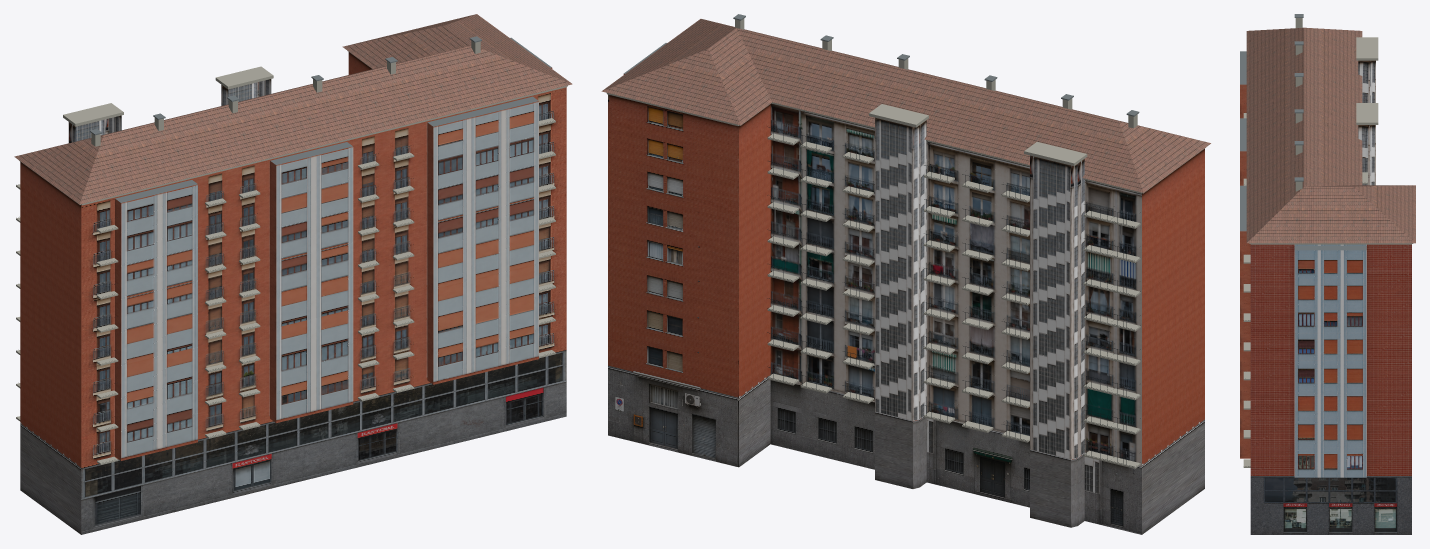
Rendered from Molassi_Fotografico.glb.
3 views of the same model, side by side, from view 1: azimuth 30°, elevation 25°; view 2: azimuth 150°, elevation 25°; view 3: azimuth 270°, elevation 25° (orthographic). The views are drawn at different scales.
Parts seen in each view (by area): view 1: Fronte | Fronte foto, Copertura | Copertura foto, Fronte | Basamento fronte, Aggetto fronte 3 | Fronte foto, Aggetto fronte 2 | Fronte foto, Aggetto fronte 1 | Fronte foto, Sinistra | Retro foto, Balconi solette | Cornici, Fianchi aggetti | Fronte foto, Sinistra | Basamento retro, Chiusure aggetti | Metallo, Coronamento vani scala | Cornici (+4 smaller); view 2: Retro arretrato | Retro foto, Copertura | Copertura foto, Retro testata | Retro foto, Retro arretrato | Basamento retro, Sinistra | Retro foto, Vano scala 2 | Retro foto, Vano scala 1 | Retro foto, Balconi solette | Cornici, Retro testata | Basamento retro, Rientranza | Retro foto, Balconi ringhiere | Ringhiere MASK, Sinistra | Basamento retro (+5 smaller); view 3: Copertura | Copertura foto, Destra | Destra foto, Aggetto destra | Destra foto, Destra | Basamento destra, Fianchi aggetti | Fronte foto, Chiusure aggetti | Metallo, Coronamento vani scala | Cornici, Vano scala 1 | Retro foto, Balconi solette | Cornici, Vano scala 2 | Retro foto, Comignoli | Cornici, Cornicioni | Cornici (+1 smaller).
Boxes of the visible parts, <box> form: Fronte | Fronte foto: <box>81,87,566,468</box>; Copertura | Copertura foto: <box>14,14,572,204</box>; Fronte | Basamento fronte: <box>81,350,566,534</box>; Aggetto fronte 3 | Fronte foto: <box>433,101,538,384</box>; Aggetto fronte 2 | Fronte foto: <box>276,146,353,422</box>; Aggetto fronte 1 | Fronte foto: <box>121,184,197,460</box>; Sinistra | Retro foto: <box>20,162,81,468</box>; Balconi solette | Cornici: <box>16,118,555,464</box>; Fianchi aggetti | Fronte foto: <box>115,122,433,460</box>; Sinistra | Basamento retro: <box>20,424,81,534</box>; Chiusure aggetti | Metallo: <box>115,37,551,202</box>; Coronamento vani scala | Cornici: <box>63,66,273,126</box>; Retro arretrato | Retro foto: <box>770,103,1141,466</box>; Copertura | Copertura foto: <box>601,19,1210,192</box>; Retro testata | Retro foto: <box>608,94,738,398</box>; Retro arretrato | Basamento retro: <box>770,380,1141,534</box>; Sinistra | Retro foto: <box>1142,149,1204,465</box>; Vano scala 2 | Retro foto: <box>1030,155,1084,458</box>; Vano scala 1 | Retro foto: <box>875,117,926,420</box>; Balconi solette | Cornici: <box>767,133,1140,468</box>; Retro testata | Basamento retro: <box>608,367,738,467</box>; Rientranza | Retro foto: <box>739,104,770,398</box>; Balconi ringhiere | Ringhiere MASK: <box>767,126,1140,466</box>; Sinistra | Basamento retro: <box>1142,420,1204,534</box>; Copertura | Copertura foto: <box>1246,27,1415,243</box>; Destra | Destra foto: <box>1250,244,1411,476</box>; Aggetto destra | Destra foto: <box>1294,250,1366,477</box>; Destra | Basamento destra: <box>1250,476,1411,534</box>; Fianchi aggetti | Fronte foto: <box>1240,84,1250,458</box>; Chiusure aggetti | Metallo: <box>1240,51,1366,250</box>; Coronamento vani scala | Cornici: <box>1356,37,1378,124</box>; Vano scala 1 | Retro foto: <box>1358,125,1375,185</box>; Balconi solette | Cornici: <box>1243,113,1367,467</box>; Vano scala 2 | Retro foto: <box>1358,60,1375,102</box>; Comignoli | Cornici: <box>1295,18,1302,191</box>; Cornicioni | Cornici: <box>1249,243,1413,244</box>.
Size of the model in its own units: 47.38 by 33.78 by 16.38.
10 materials, 8 textured.
